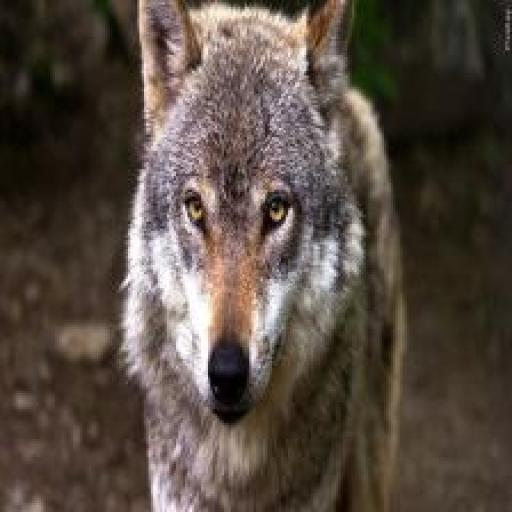wolf: (101, 0, 434, 512)
